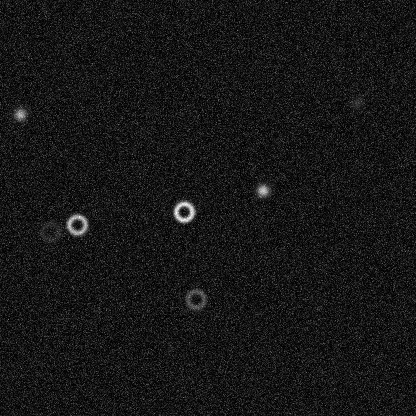Ring: (65, 212, 89, 236), (171, 199, 195, 223), (183, 287, 207, 311), (38, 219, 62, 243)
Spot: (349, 94, 365, 110), (12, 106, 28, 122), (254, 182, 270, 198)
